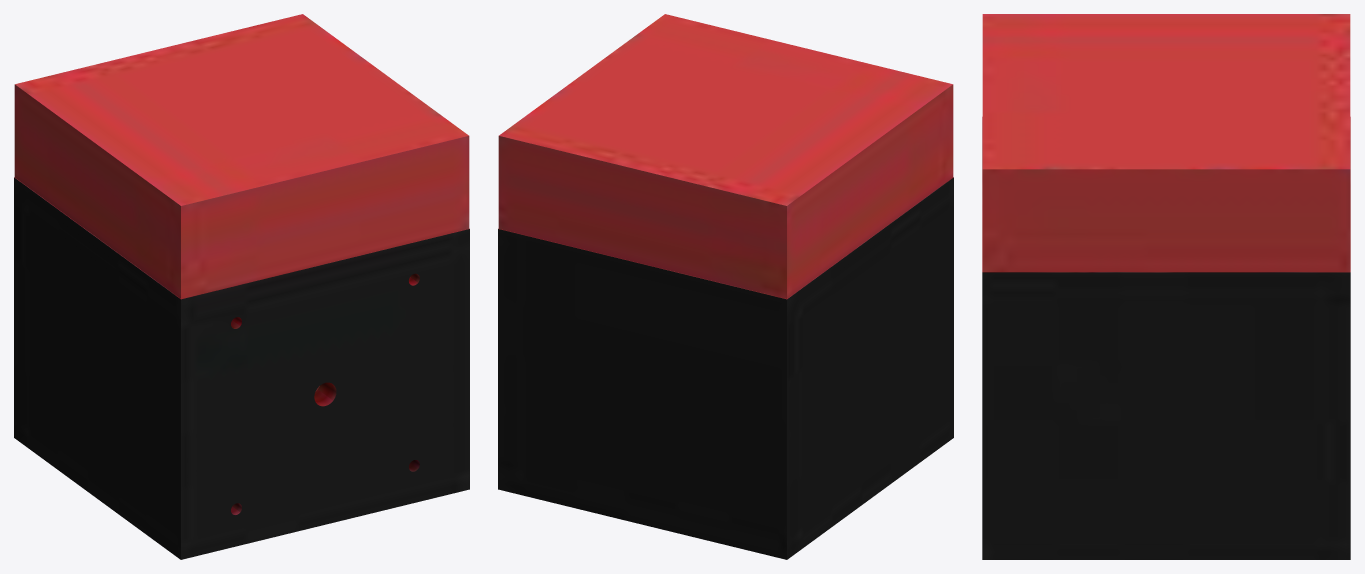
File: MesaCamera.glb
3 views of the same model, side by side, from view 1: azimuth 30°, elevation 25°; view 2: azimuth 150°, elevation 25°; view 3: azimuth 270°, elevation 25° (orthographic). The views are drawn at different scales.
Parts seen in each view (by area): view 1: Asset3DLoader.sceneRoot; view 2: Asset3DLoader.sceneRoot; view 3: Asset3DLoader.sceneRoot.
Part boxes in pixels (bbox=[...]): Asset3DLoader.sceneRoot: bbox=[14, 14, 469, 559]; Asset3DLoader.sceneRoot: bbox=[498, 14, 953, 559]; Asset3DLoader.sceneRoot: bbox=[982, 14, 1350, 559].
Size of the model in its own units: 65 by 76 by 65.
1 material, 1 textured.
